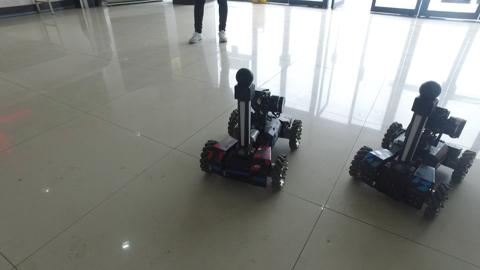chariot: (345, 71, 477, 227), (199, 68, 309, 201)
